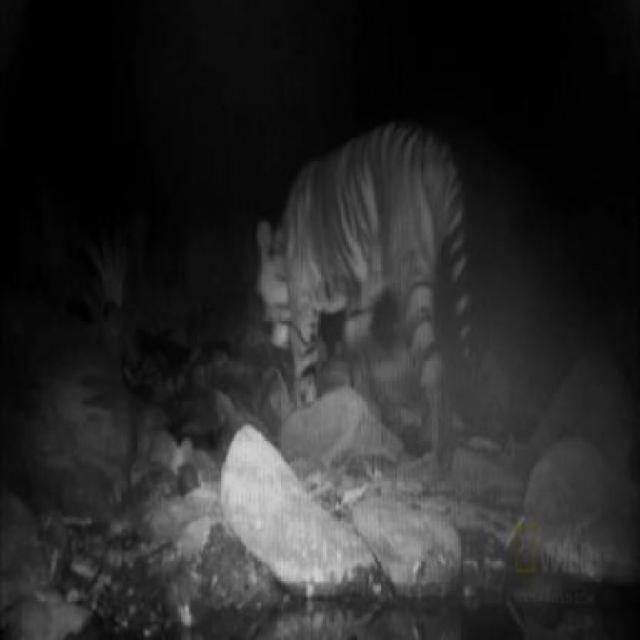Tiger: (240, 102, 492, 484)
